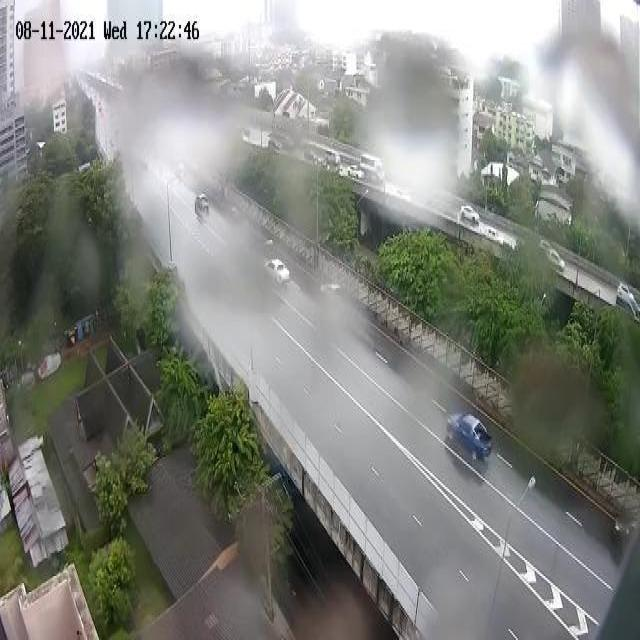Car: (546, 250, 566, 272), (461, 204, 479, 226), (618, 280, 634, 300), (348, 165, 364, 181), (195, 193, 209, 211)
Truck: (446, 409, 491, 465), (264, 258, 290, 289), (360, 154, 386, 184), (616, 298, 639, 322)
Van: (325, 148, 340, 166)
